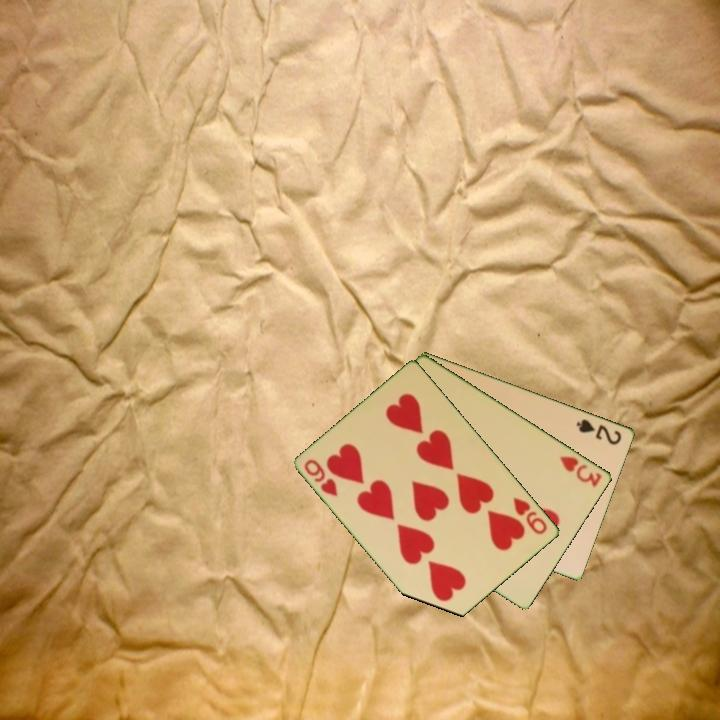2s: (573, 415, 625, 448)
3h: (556, 452, 605, 490)
9h: (510, 493, 551, 537), (301, 455, 341, 499)
